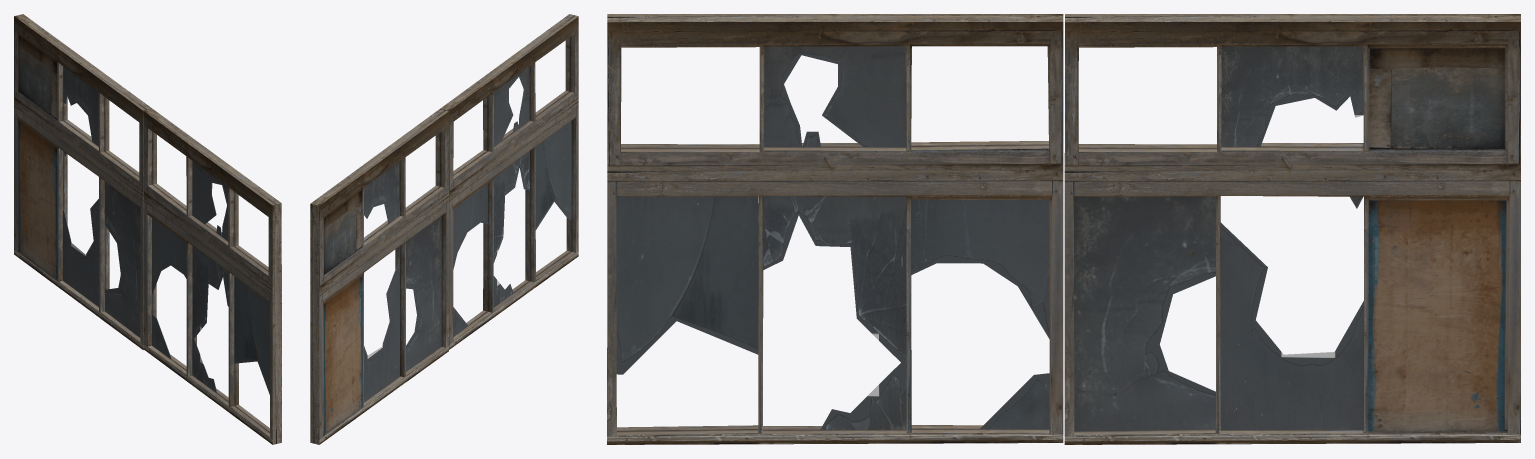
File: Windows_Porch_01.fbx
3 views of the same model, side by side, from view 1: azimuth 30°, elevation 25°; view 2: azimuth 150°, elevation 25°; view 3: azimuth 270°, elevation 25° (orthographic). The views are drawn at different scales.
Visible parts, largest first — view 1: Windows_Porch_01, Windows_Porch_01glass (×8); view 2: Windows_Porch_01, Windows_Porch_01glass (×7); view 3: Windows_Porch_01, Windows_Porch_01glass (×8).
Part boxes in pixels (left/top/right/bottom): Windows_Porch_01: left=14, top=14, right=281, bottom=444; Windows_Porch_01glass (×8): left=63, top=66, right=269, bottom=394; Windows_Porch_01: left=310, top=14, right=578, bottom=444; Windows_Porch_01glass (×7): left=364, top=66, right=571, bottom=402; Windows_Porch_01: left=607, top=14, right=1520, bottom=444; Windows_Porch_01glass (×8): left=616, top=46, right=1363, bottom=431.
Size of the model in its own units: 5.22 by 255 by 130.
2 materials, 2 textured.
